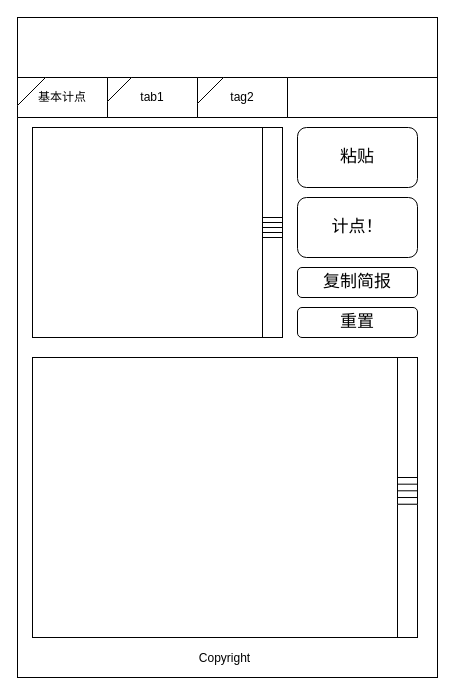
The diagram is 455 pixels wide and 695 high, and some of its shapes have lost their labels. The shapes that lost their labels are listed below. From the top down, each one's box as (x1, y1, x2, y2) in pixels, then its label:
(16, 16, 438, 78): 标题
(32, 126, 282, 338): 报告框
(32, 356, 418, 638): 文本输入框
